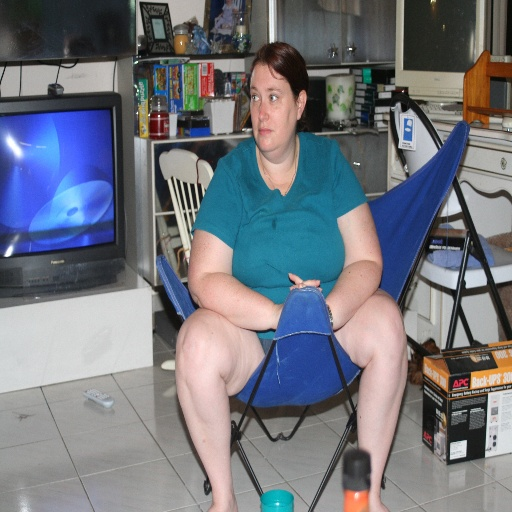hand: (288, 272, 308, 292), (301, 277, 321, 293)
